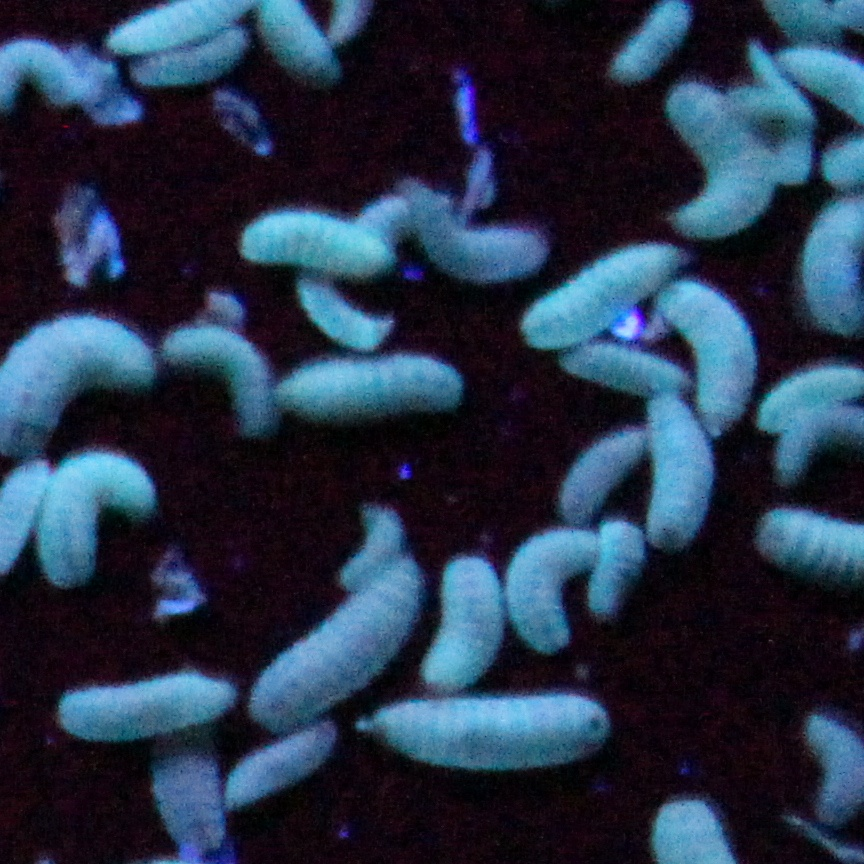larve: (245, 551, 448, 743), (355, 690, 626, 775), (45, 460, 189, 573), (526, 246, 687, 346), (143, 312, 292, 419), (660, 273, 750, 424), (675, 82, 760, 238), (380, 197, 540, 278), (60, 682, 238, 751), (219, 717, 340, 817), (565, 419, 675, 517), (511, 538, 594, 656), (243, 212, 384, 278), (648, 414, 711, 556), (277, 368, 467, 412), (553, 341, 704, 392), (438, 563, 494, 690), (248, 1, 342, 75), (107, 1, 242, 47), (129, 32, 235, 83), (604, 531, 636, 629)
